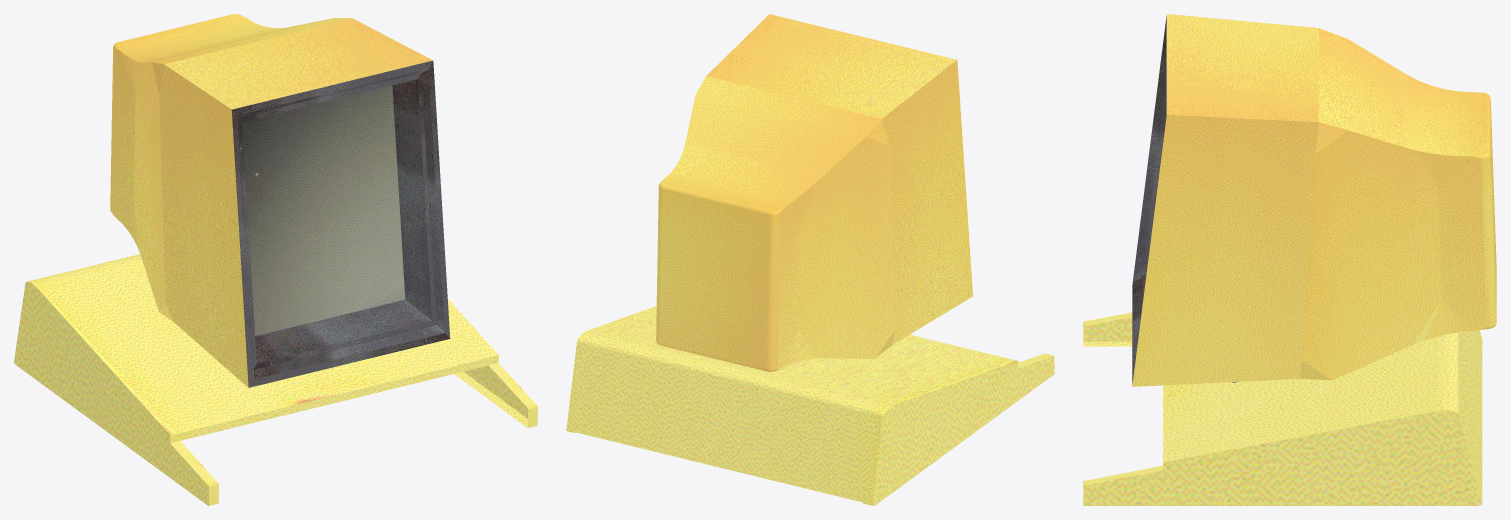
File: monitorSmall2.glb
3 renders of one model, left to right at view 1: azimuth 30°, elevation 25°; view 2: azimuth 150°, elevation 25°; view 3: azimuth 270°, elevation 25°, orthographic. The views are drawn at different scales.
Parts seen in each view (by area): view 1: Monitor, Stand; view 2: Monitor, Stand; view 3: Monitor, Stand.
Part boxes in pixels (x1=…): Monitor: x1=110, y1=14, x2=450, y2=387; Stand: x1=14, y1=254, x2=537, y2=505; Monitor: x1=656, y1=14, x2=972, y2=371; Stand: x1=566, y1=306, x2=1054, y2=505; Monitor: x1=1132, y1=14, x2=1496, y2=386; Stand: x1=1083, y1=312, x2=1482, y2=505.
Size of the model in its own units: 2.87 by 2.93 by 3.05.
2 materials, 2 textured.
